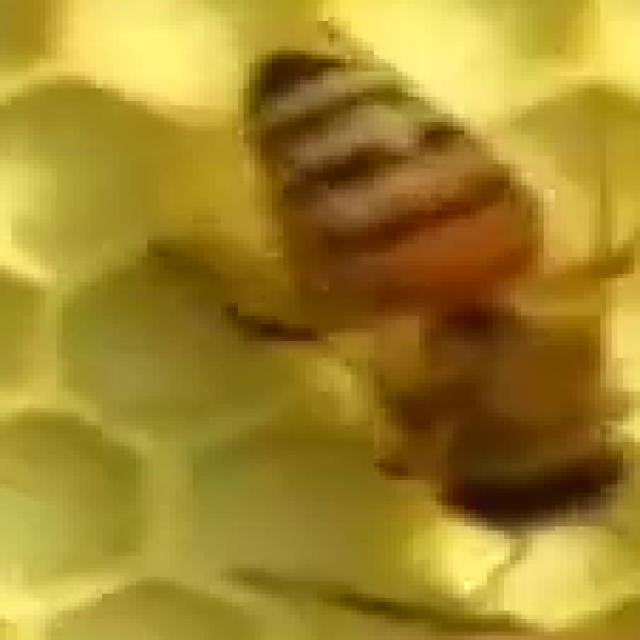honeybee: (227, 36, 632, 528)
